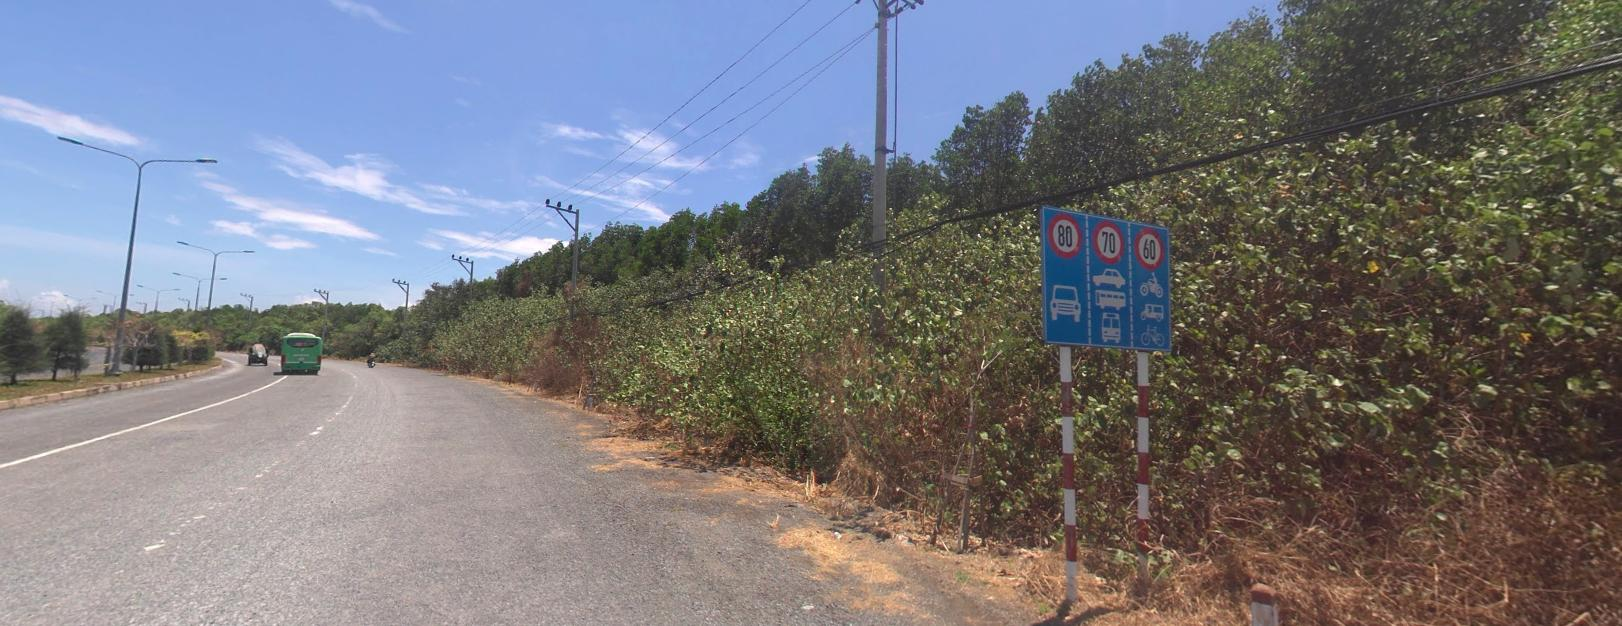Gioi han toc do: (1047, 209, 1083, 255), (1092, 217, 1125, 261), (1048, 212, 1081, 256), (1134, 222, 1165, 265), (1093, 220, 1124, 263), (1134, 225, 1164, 267)
